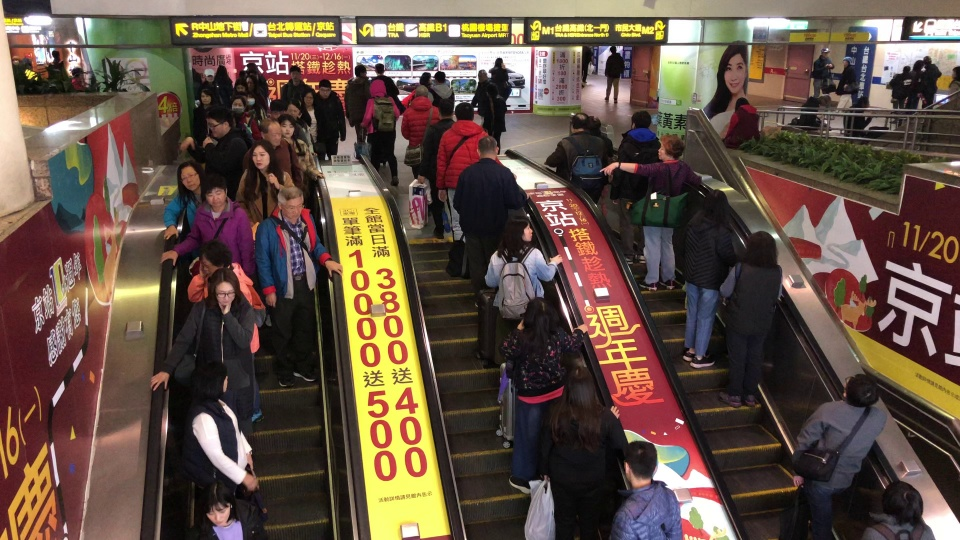person_head: (561, 370, 603, 433), (243, 140, 287, 195), (884, 483, 923, 527), (200, 480, 234, 526), (627, 442, 658, 492), (843, 370, 879, 411), (198, 240, 232, 280), (197, 360, 230, 399), (525, 300, 554, 343), (209, 268, 240, 307), (745, 231, 779, 266), (702, 189, 728, 231), (175, 158, 204, 192), (277, 188, 302, 223), (202, 173, 227, 207), (655, 135, 684, 163), (204, 108, 229, 139), (505, 215, 533, 242), (628, 106, 652, 133), (478, 135, 498, 164), (261, 117, 281, 146), (453, 101, 473, 124), (438, 98, 453, 120), (281, 114, 294, 138), (569, 114, 588, 130), (586, 115, 602, 133), (369, 79, 385, 97), (231, 97, 246, 114), (286, 99, 301, 116), (735, 95, 749, 113), (415, 83, 429, 101), (270, 99, 283, 118), (418, 70, 432, 86), (354, 63, 368, 79), (289, 65, 301, 83), (319, 81, 332, 96), (302, 89, 314, 105), (246, 74, 255, 94), (201, 90, 212, 106), (247, 62, 257, 79), (857, 96, 870, 109), (434, 70, 445, 84), (374, 63, 385, 77), (246, 92, 257, 106), (486, 82, 496, 97), (493, 57, 505, 69), (821, 93, 831, 107), (9, 54, 21, 65), (841, 56, 852, 68), (73, 67, 83, 79), (477, 70, 487, 81), (913, 59, 922, 71), (205, 68, 214, 80), (820, 47, 830, 57), (924, 55, 932, 67), (952, 65, 959, 78), (51, 50, 59, 61), (609, 44, 617, 54), (902, 65, 910, 72)
person_vbox: (150, 268, 270, 458), (779, 366, 888, 540), (252, 187, 343, 392), (595, 134, 702, 305), (452, 135, 531, 362), (502, 300, 590, 495), (184, 240, 273, 426), (186, 357, 268, 526), (545, 366, 621, 538), (719, 231, 786, 411), (159, 173, 255, 284), (486, 213, 563, 350), (684, 187, 738, 374), (607, 108, 660, 276), (436, 104, 488, 256), (613, 442, 682, 540), (234, 142, 296, 238), (540, 112, 600, 210), (180, 107, 237, 202), (417, 97, 455, 239), (188, 473, 264, 540), (357, 76, 400, 188), (401, 83, 438, 203), (162, 158, 211, 241), (866, 481, 932, 540), (281, 116, 326, 189), (344, 62, 376, 161), (315, 79, 349, 163), (268, 99, 309, 157), (284, 99, 318, 159), (373, 61, 407, 120), (724, 95, 758, 153), (299, 86, 324, 163), (481, 83, 507, 156), (400, 67, 439, 113), (838, 55, 859, 132), (586, 116, 614, 173), (192, 90, 227, 133), (227, 108, 254, 162), (230, 97, 260, 145), (841, 94, 873, 135), (603, 44, 624, 105), (471, 68, 494, 121), (800, 94, 832, 132), (923, 52, 942, 116), (811, 45, 834, 96), (891, 64, 910, 124), (904, 58, 923, 118), (280, 64, 306, 106), (490, 56, 511, 106), (246, 61, 269, 96), (246, 91, 267, 127), (429, 69, 455, 98), (45, 49, 66, 81), (10, 54, 26, 93), (947, 64, 960, 109), (582, 46, 595, 88), (216, 64, 233, 95), (70, 65, 86, 91), (246, 74, 258, 108), (201, 65, 216, 90), (191, 65, 201, 97), (233, 78, 246, 94), (239, 70, 249, 81)
